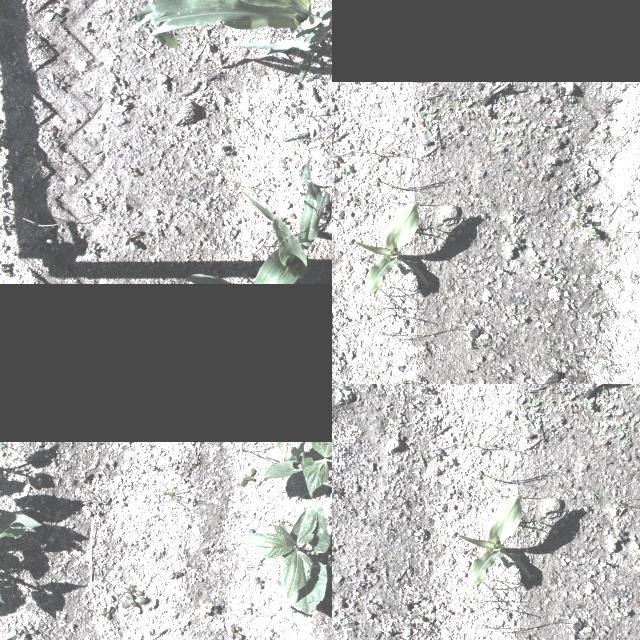crop: (135, 0, 332, 82), (240, 155, 332, 282), (245, 506, 331, 614), (355, 199, 429, 295), (458, 492, 532, 588), (0, 512, 42, 558), (184, 272, 236, 282), (275, 441, 283, 451)
weed: (263, 441, 332, 497), (373, 158, 417, 204), (476, 452, 520, 496), (154, 475, 193, 515), (24, 147, 54, 179), (436, 434, 496, 450), (333, 142, 392, 156), (120, 228, 148, 252), (110, 79, 134, 105), (121, 592, 149, 614), (584, 360, 620, 376), (569, 200, 587, 230), (266, 442, 290, 464), (506, 201, 526, 227), (609, 494, 629, 520), (288, 130, 312, 150), (0, 174, 14, 206), (76, 192, 108, 206), (240, 466, 262, 486), (388, 332, 424, 344), (491, 625, 527, 637), (28, 34, 50, 50), (545, 266, 563, 284), (18, 622, 36, 640), (604, 268, 624, 284), (122, 582, 144, 596), (49, 6, 70, 20), (98, 604, 116, 620), (522, 394, 540, 410), (287, 92, 307, 106), (626, 304, 640, 324), (212, 142, 228, 158), (419, 102, 437, 116), (0, 256, 13, 275), (125, 164, 145, 176), (229, 623, 243, 640), (572, 346, 590, 359), (584, 227, 602, 240), (0, 217, 10, 240), (458, 98, 474, 112), (455, 484, 469, 500), (562, 390, 576, 406), (314, 103, 332, 115), (614, 421, 626, 439), (352, 192, 366, 206), (488, 126, 502, 140), (79, 470, 93, 484), (230, 626, 244, 640), (87, 244, 103, 256), (506, 234, 518, 250), (252, 574, 264, 590), (512, 128, 522, 146), (332, 384, 347, 396), (594, 264, 606, 278), (609, 528, 621, 542), (0, 132, 11, 147), (611, 252, 627, 262), (618, 362, 628, 378), (50, 452, 60, 468), (166, 570, 182, 580), (411, 610, 424, 622), (200, 602, 212, 614), (245, 602, 257, 614), (391, 418, 403, 430), (592, 420, 604, 432), (332, 154, 342, 168), (435, 447, 445, 461), (425, 121, 437, 131), (540, 168, 550, 180), (554, 359, 566, 369), (12, 627, 22, 639), (176, 623, 186, 635), (316, 616, 328, 626), (528, 414, 540, 424), (613, 237, 621, 251), (520, 526, 534, 534), (321, 515, 332, 525), (417, 116, 429, 125), (494, 115, 506, 124), (520, 409, 532, 418), (597, 408, 609, 417), (269, 628, 279, 638), (443, 456, 453, 466), (610, 602, 620, 612), (540, 345, 552, 353), (539, 120, 547, 132), (484, 198, 496, 206), (582, 398, 592, 407), (418, 233, 430, 240), (278, 520, 292, 526), (479, 105, 488, 114), (532, 257, 540, 267), (567, 94, 577, 102), (340, 164, 350, 172), (390, 136, 400, 144), (473, 101, 481, 111), (508, 309, 516, 319), (415, 593, 423, 603), (576, 394, 584, 404), (588, 491, 598, 499), (306, 550, 318, 556), (520, 146, 528, 154), (152, 464, 160, 472), (602, 561, 610, 569), (546, 398, 554, 406), (493, 429, 502, 436), (515, 318, 525, 324), (634, 550, 640, 560), (499, 268, 506, 276), (623, 439, 631, 446), (241, 442, 247, 451), (632, 278, 638, 286), (414, 377, 422, 383), (534, 134, 540, 142), (116, 590, 124, 596), (258, 556, 266, 562), (444, 106, 451, 112), (618, 612, 628, 616), (538, 523, 544, 529), (269, 633, 274, 640), (636, 427, 640, 435), (436, 230, 440, 236), (501, 167, 507, 171), (604, 460, 610, 464)
